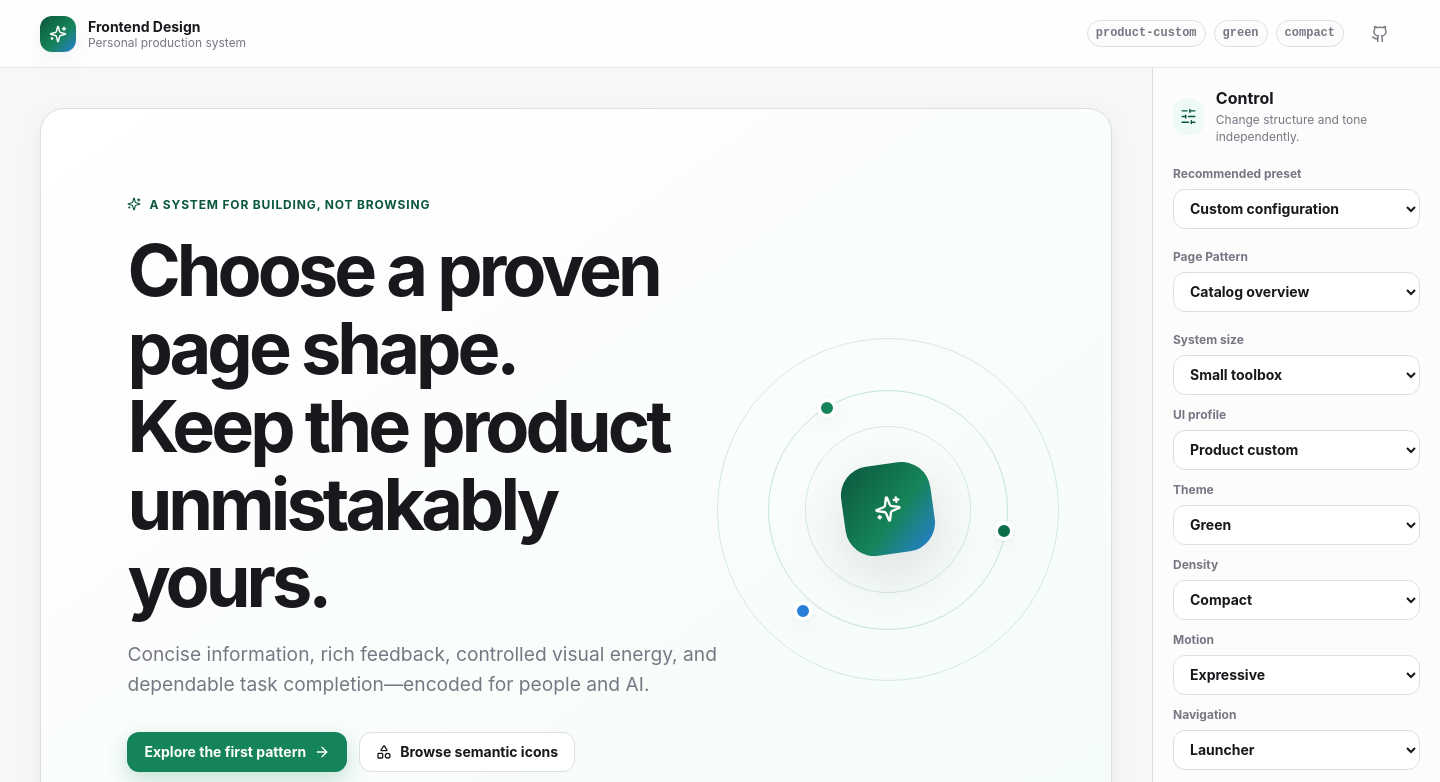
showcase application › switches Page Patterns from Control while preserving the selected configuration
The width and height of the screenshot is (1440, 782).
Select "Search list" in the dropdown labelled "Page Pattern" at (1296, 292), box [1173, 272, 1420, 312]
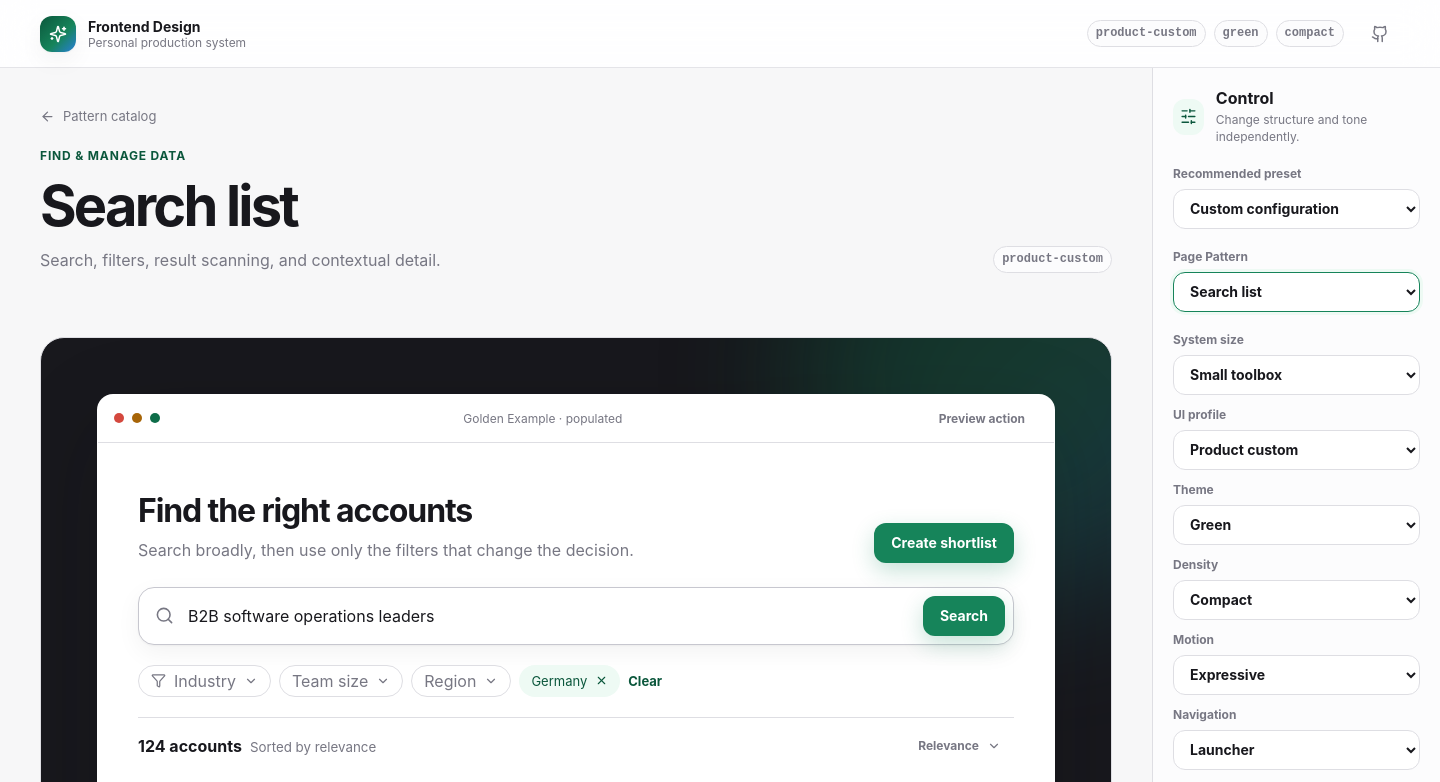
Expected: the dropdown labelled "Theme" shows "Green", [1173, 505, 1420, 545]
Result: the heading "Search list" is shown at [40, 172, 297, 240]
